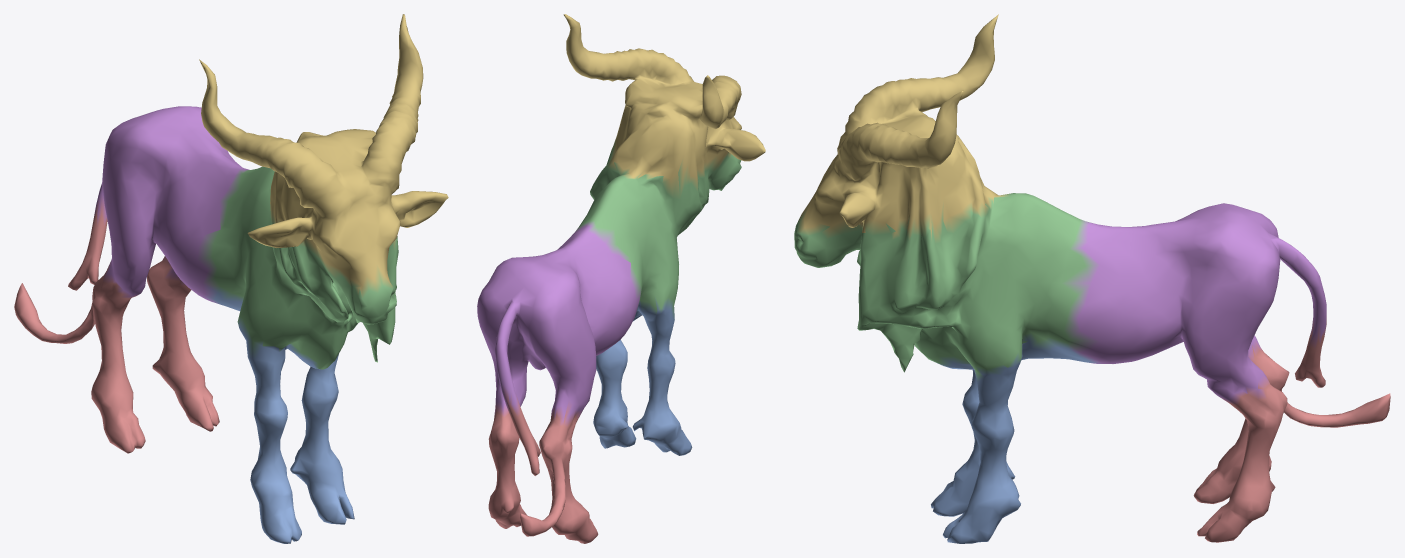
File: ghost_3d8.glb
3 views of the same model, side by side, from view 1: azimuth 30°, elevation 25°; view 2: azimuth 150°, elevation 25°; view 3: azimuth 270°, elevation 25° (orthographic). The views are drawn at different scales.
Parts seen in each view (by area): view 1: world; view 2: world; view 3: world.
Part boxes in pixels (bbox=[...]): world: bbox=[14, 14, 448, 543]; world: bbox=[477, 14, 765, 543]; world: bbox=[794, 14, 1390, 543].
Size of the model in its own units: 0.7778 by 1.79 by 2.
